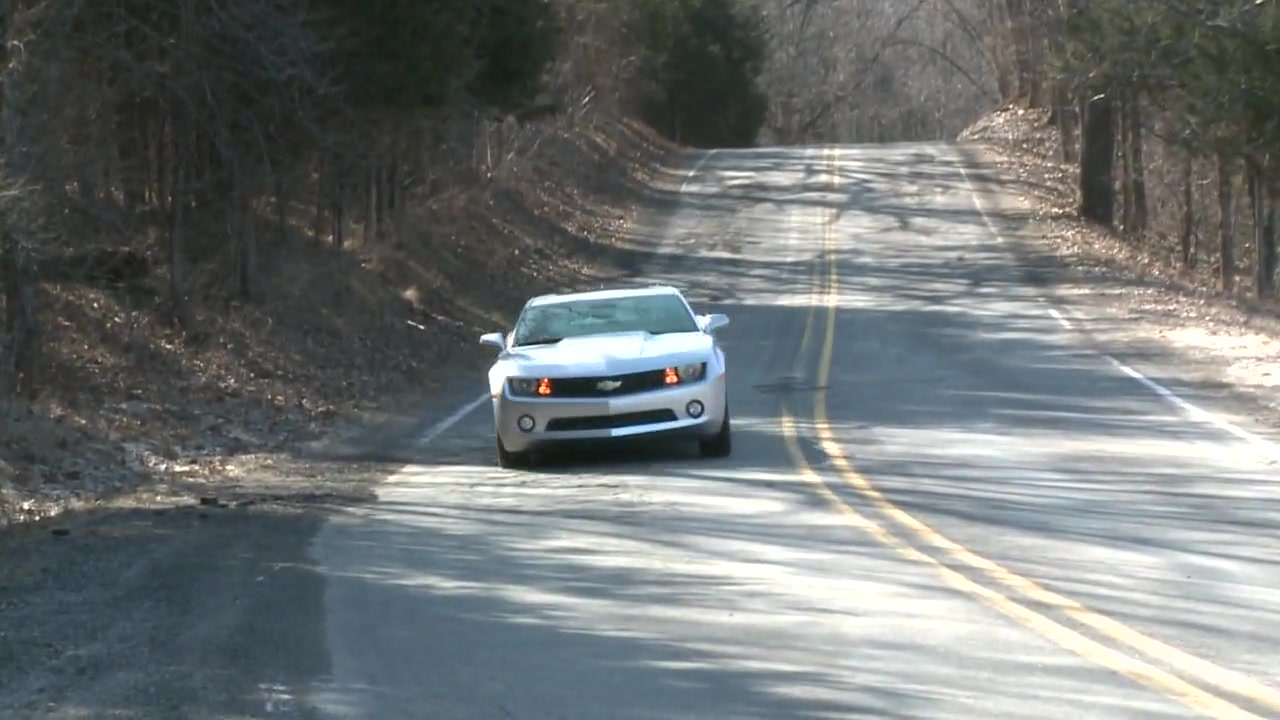car: (477, 282, 736, 475)
